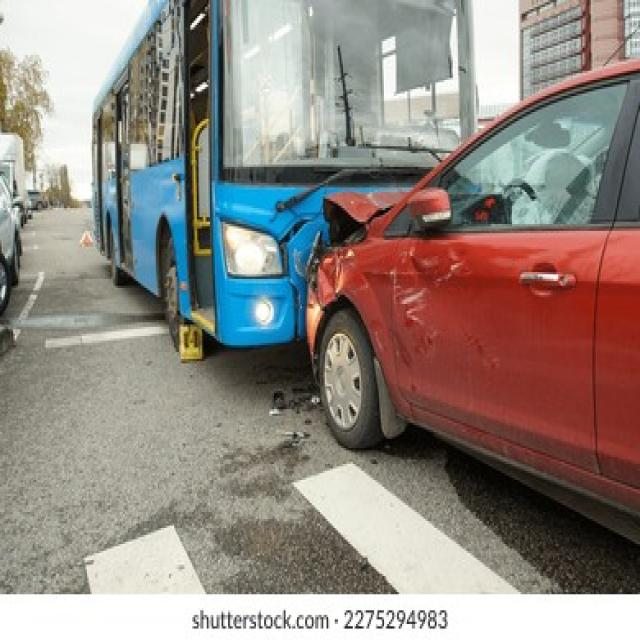Accident: (84, 0, 638, 528)
